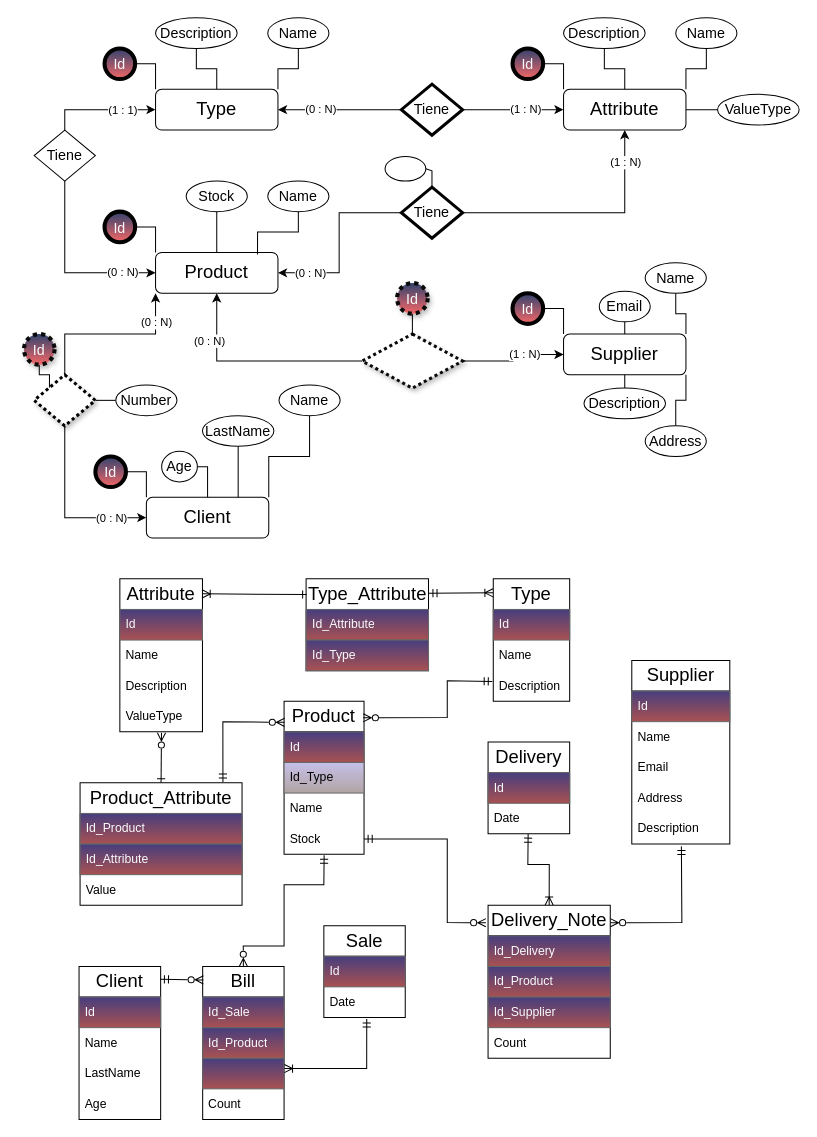
Image size: 817x1137. Some labels were removed from this diagram. Here are the shapes that lost their labels. From the top down, the centre of each, then its label:
At (x=405, y=168): "Valor".
At (x=413, y=362): "Delibery Note".
At (x=65, y=401): "Sales".
At (x=243, y=1073): "Id_Client".
